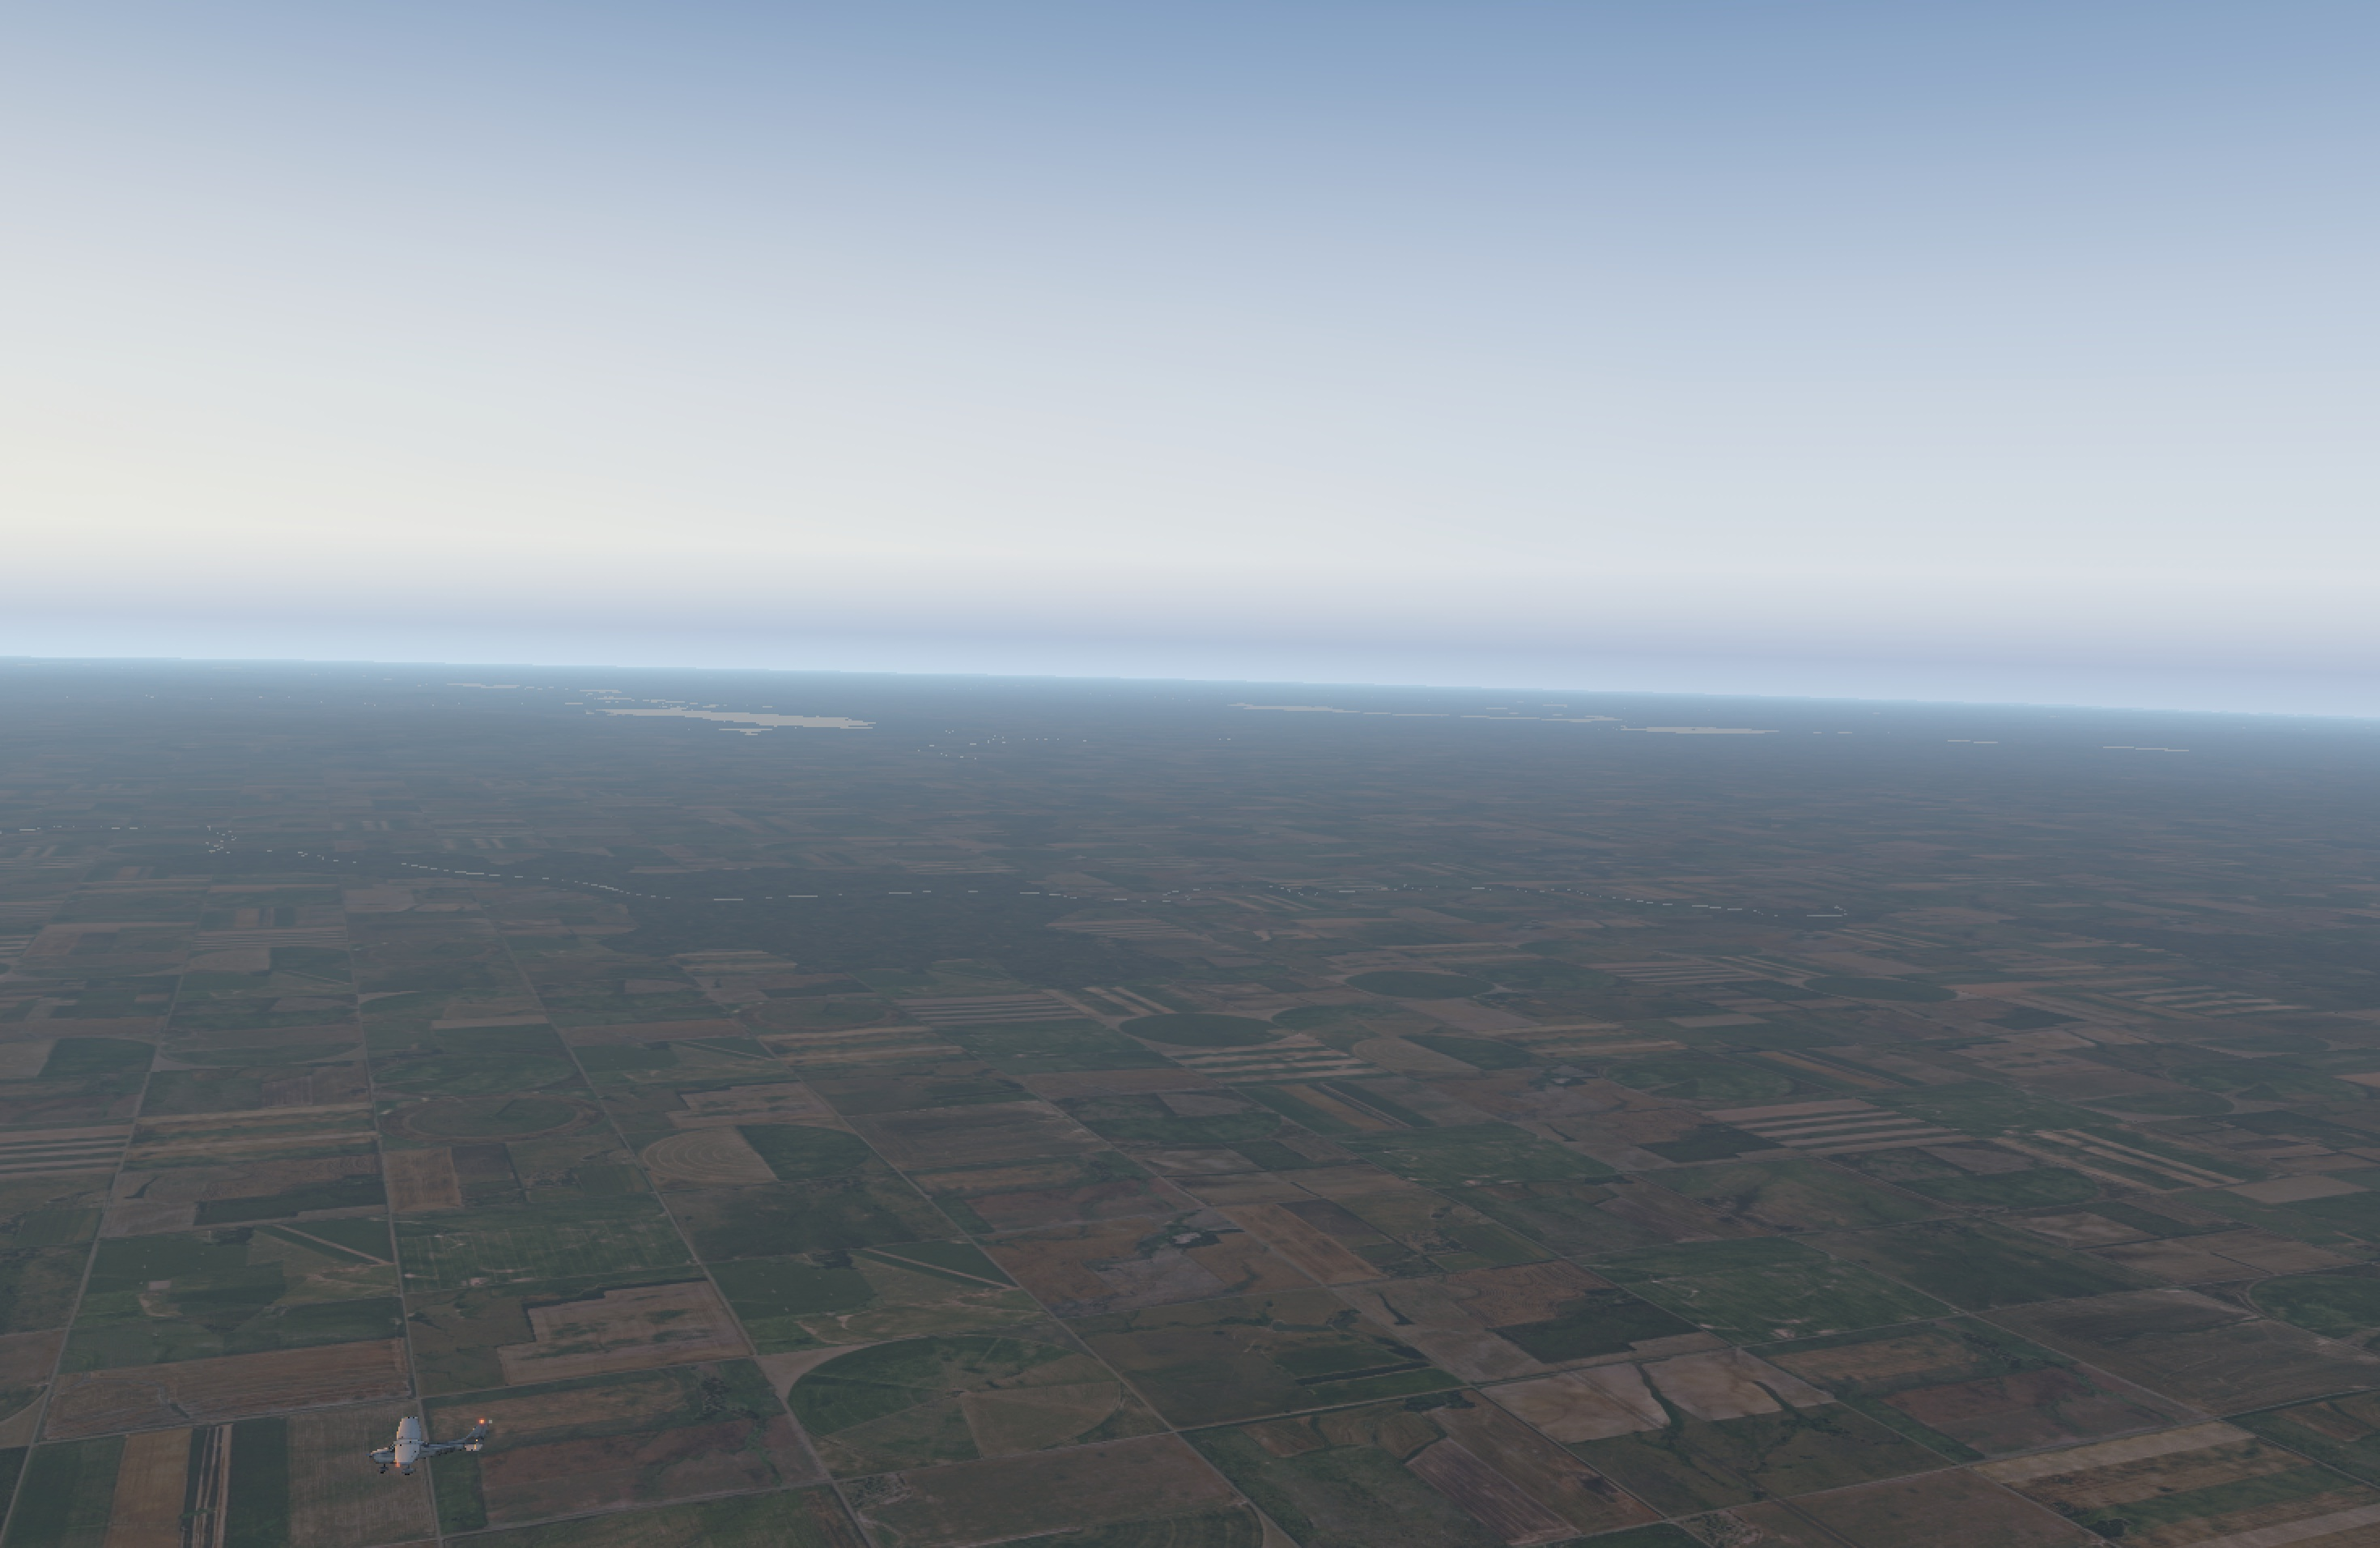aircraft: (352, 1432, 453, 1470)
